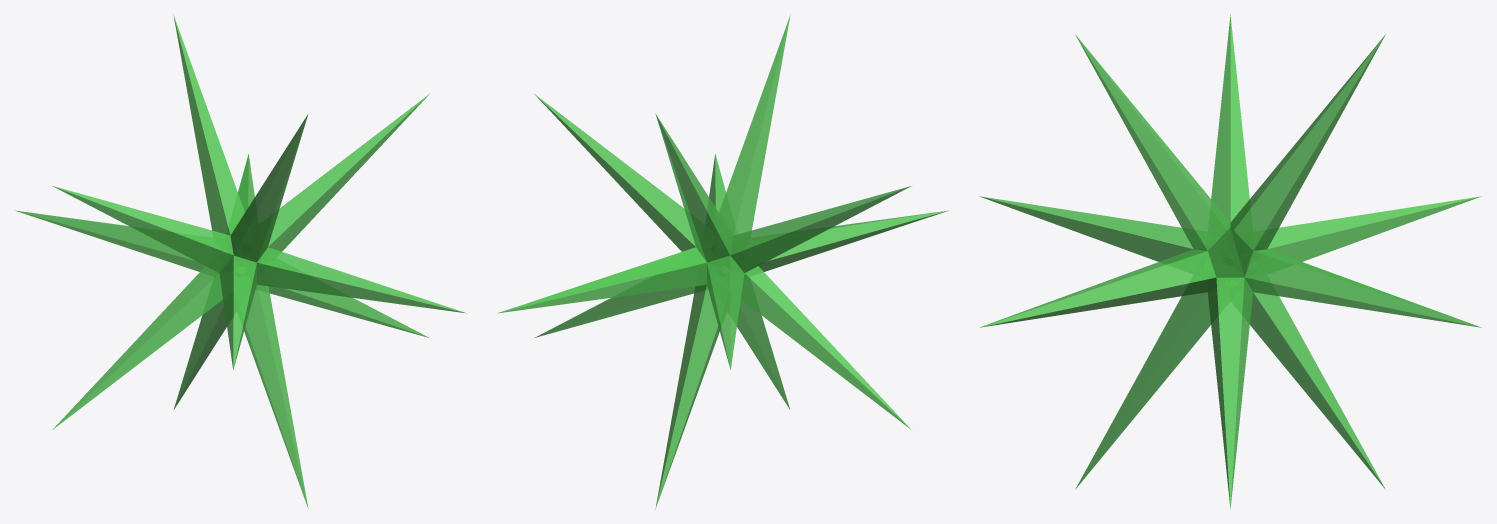
The model's file is fractalgreatpentakisdodecahedron0.glb.
The picture shows the model from 3 angles, left to right: view 1: azimuth 30°, elevation 25°; view 2: azimuth 150°, elevation 25°; view 3: azimuth 270°, elevation 25°; orthographic projection. The views are drawn at different scales.
Bounding box in the file's own units: 10.45 × 10.45 × 10.45.
